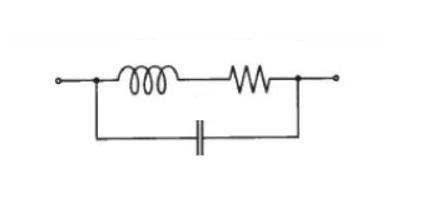resistor: (213, 56, 282, 100)
